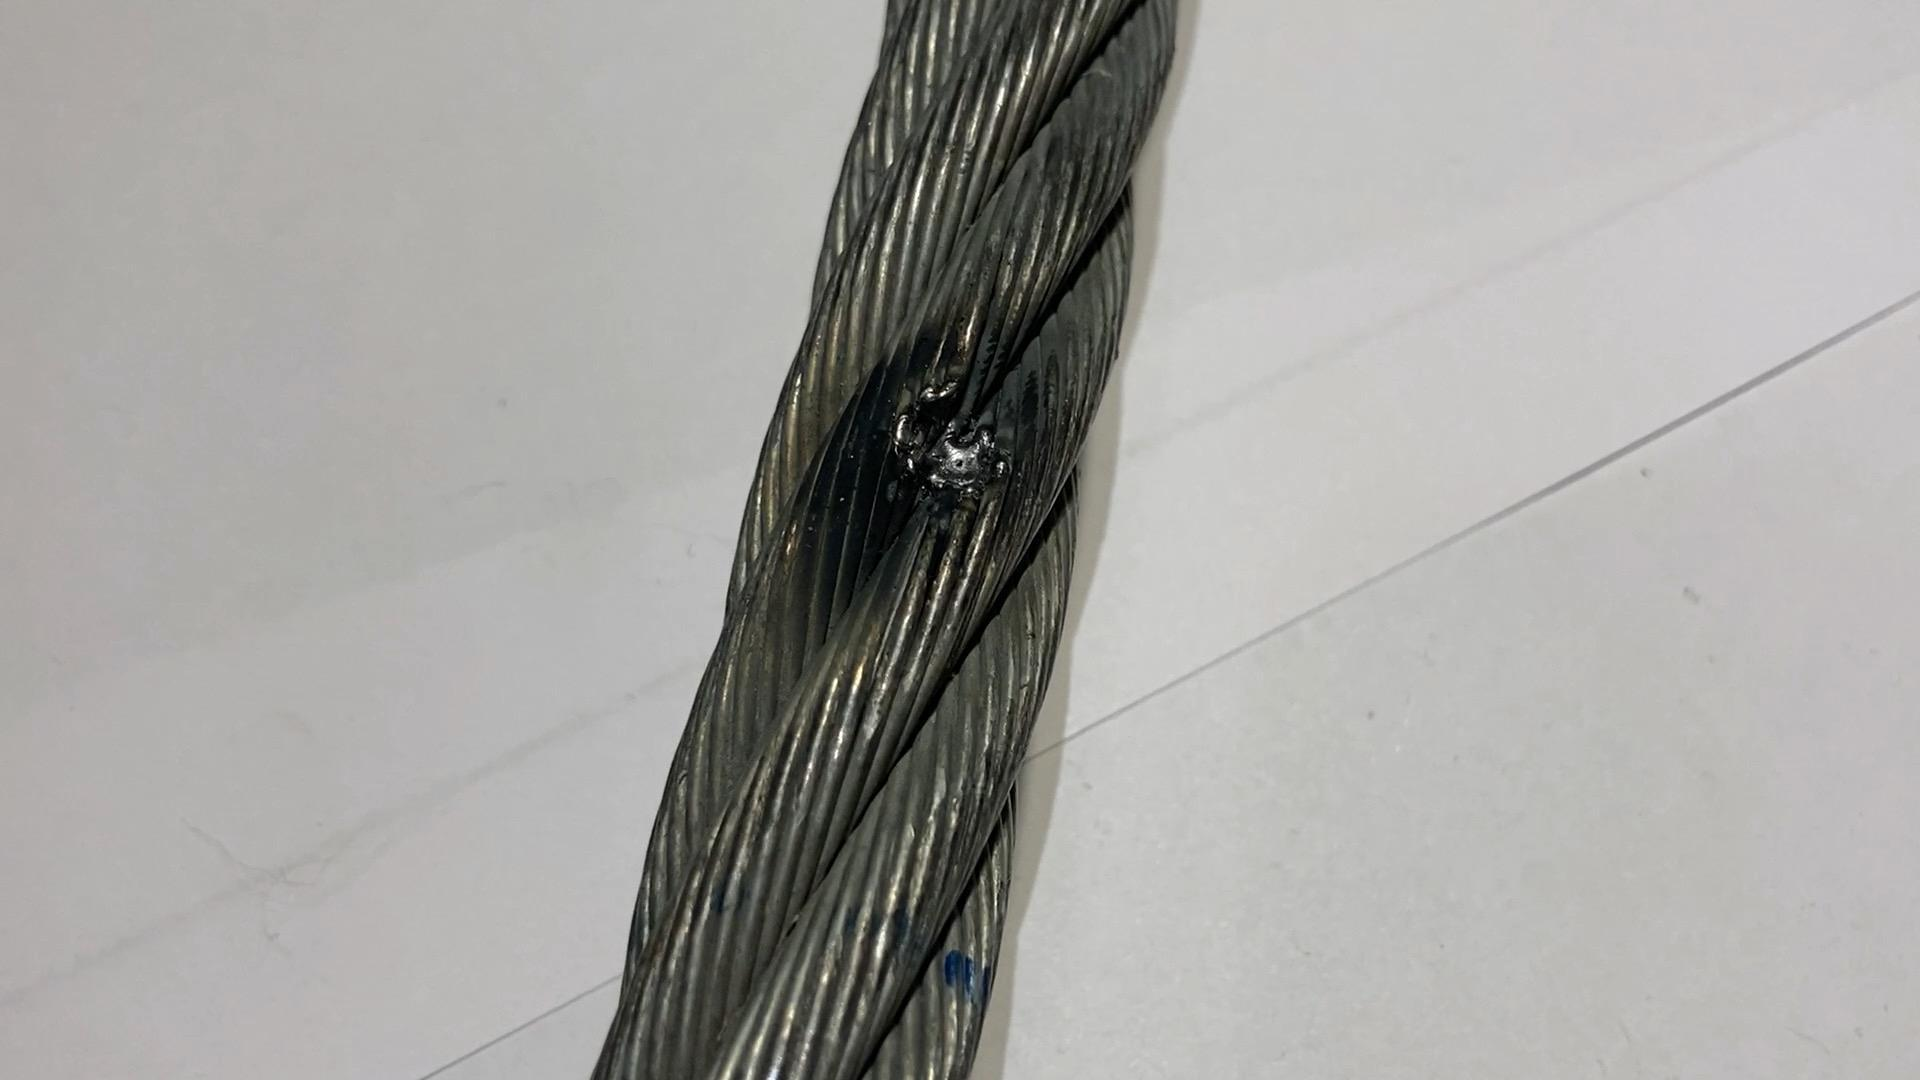thunderbolt: (876, 347, 1047, 510)
